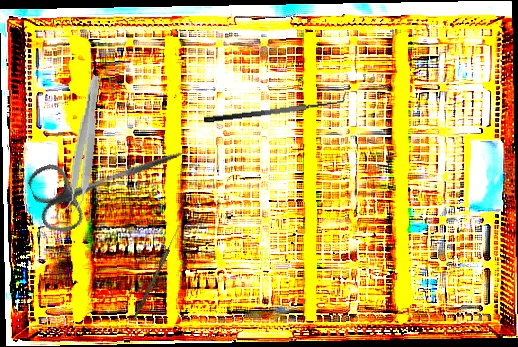Iris Scissors: (24, 118, 194, 239)
Spatula Surgical: (202, 90, 348, 124)
Surgical Spoon: (132, 223, 182, 322)
Tissue Forceps: (61, 73, 106, 215)
